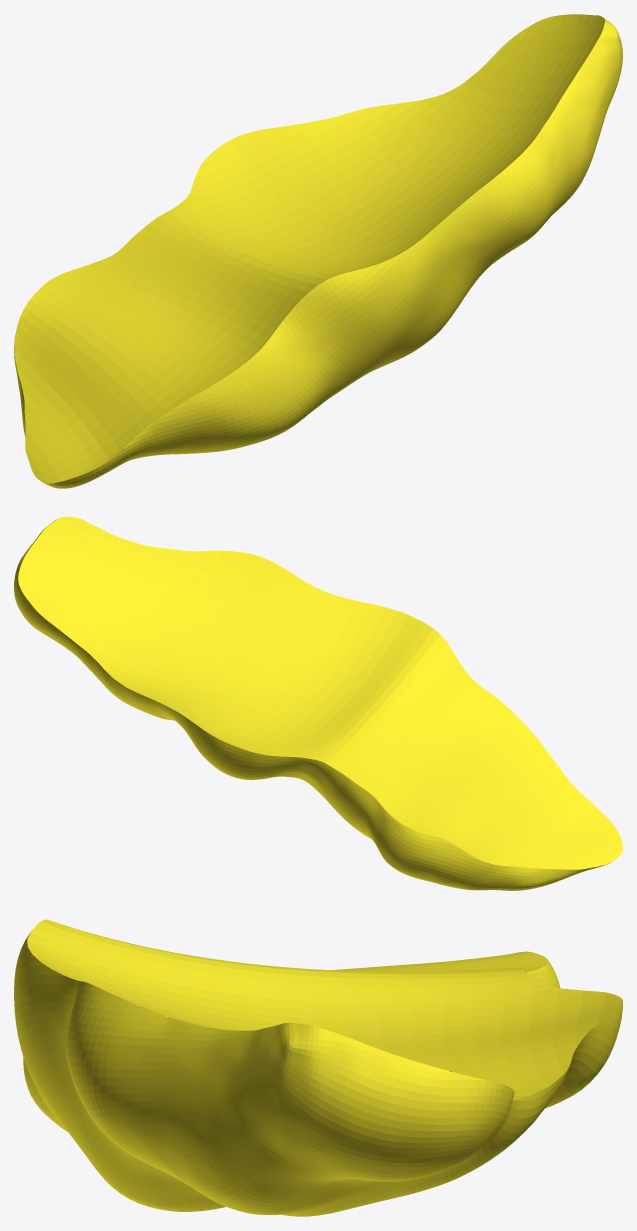
File: 3d-vh-m-epiploic-appendage-of-transverse-colon.glb
3 renders of one model, top to bottom at view 1: azimuth 30°, elevation 25°; view 2: azimuth 150°, elevation 25°; view 3: azimuth 270°, elevation 25°, orthographic. The views are drawn at different scales.
Parts seen in each view (by area): view 1: VH_M_epiploic_appendage_of_transverse_colon; view 2: VH_M_epiploic_appendage_of_transverse_colon; view 3: VH_M_epiploic_appendage_of_transverse_colon.
Part boxes in pixels (x1,y1,x2,y2): VH_M_epiploic_appendage_of_transverse_colon: [14, 14, 622, 488]; VH_M_epiploic_appendage_of_transverse_colon: [14, 517, 622, 890]; VH_M_epiploic_appendage_of_transverse_colon: [14, 919, 622, 1216].
Bounding box in the file's own units: 0.0861 × 0.0384 × 0.0446.
